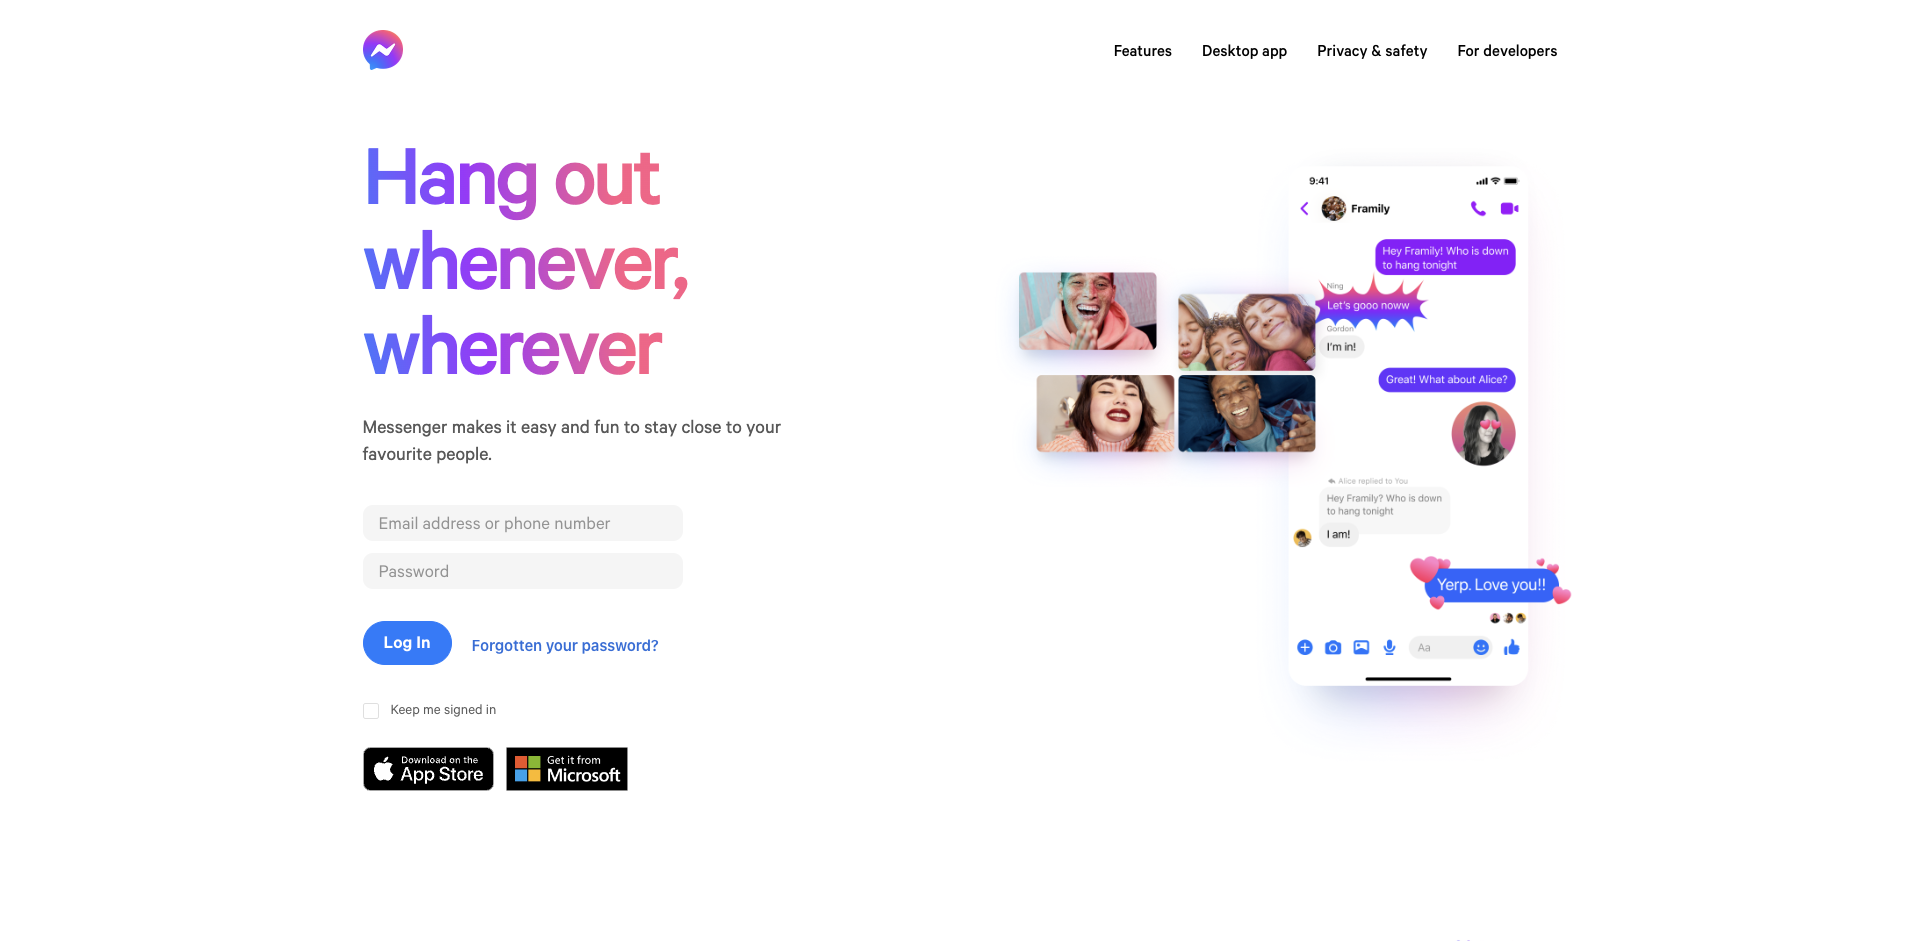button: (362, 620, 452, 664), (471, 635, 659, 654), (1297, 939, 1395, 941)
checkbox: (366, 706, 380, 718)
input: (362, 505, 682, 540), (362, 553, 682, 588)
label: (391, 702, 496, 717), (362, 702, 378, 718)
link: (506, 778, 651, 794), (362, 778, 506, 794), (1318, 40, 1428, 60), (1457, 40, 1558, 60), (1202, 40, 1287, 60), (362, 29, 403, 70), (1113, 40, 1172, 60), (951, 939, 1082, 941), (1082, 939, 1211, 941), (1211, 939, 1297, 941)
